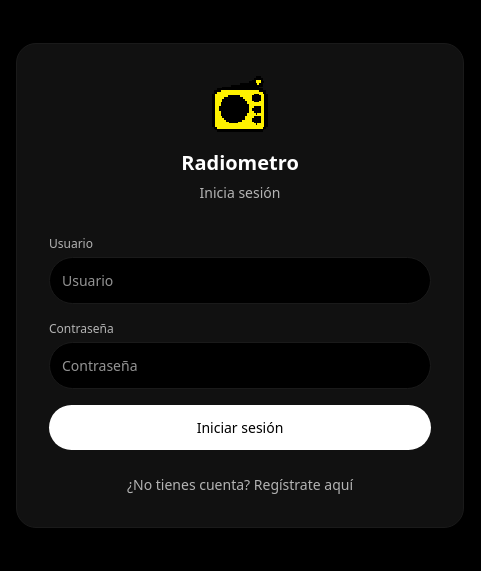
Auth › muestra error si las credenciales son inválidas
In the field with placeholder "Usuario": (240, 280) [49,256,431,304], type "alice"
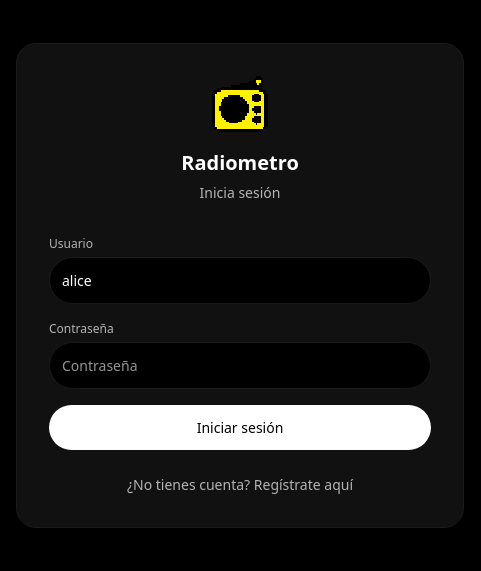
In the password field with placeholder "Contraseña": (240, 365) [49,342,431,388], type "password123"
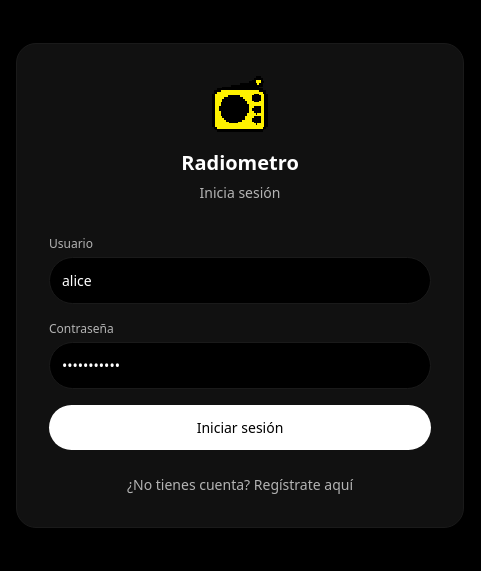
Click the button "Iniciar sesión": (240, 427) [49,404,431,450]
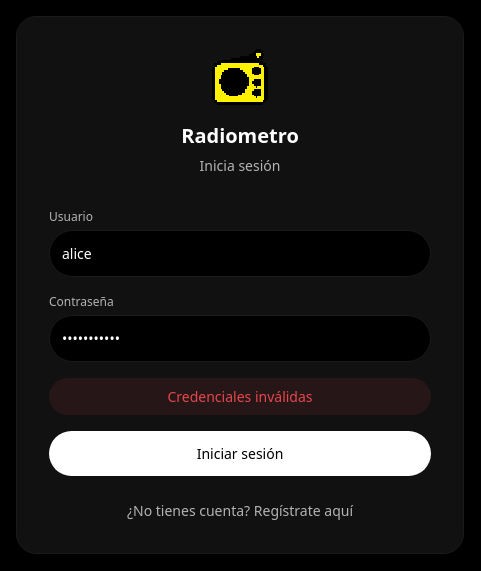
Expected: the text "Credenciales inválidas" is shown, [49,378,431,415]
